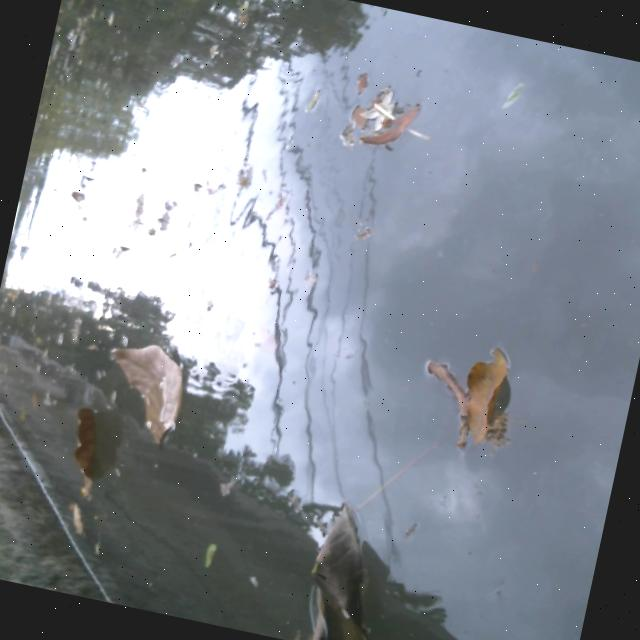Big-leaf: (281, 486, 410, 640), (92, 332, 202, 447), (453, 345, 525, 450), (50, 402, 121, 500)
Small-leaf: (408, 357, 488, 452), (371, 103, 425, 160), (344, 74, 393, 130), (212, 464, 247, 504), (64, 164, 97, 206), (351, 220, 386, 256), (60, 498, 93, 535), (194, 535, 224, 573), (499, 79, 528, 113), (232, 0, 260, 32), (302, 85, 324, 115), (234, 168, 253, 191)
